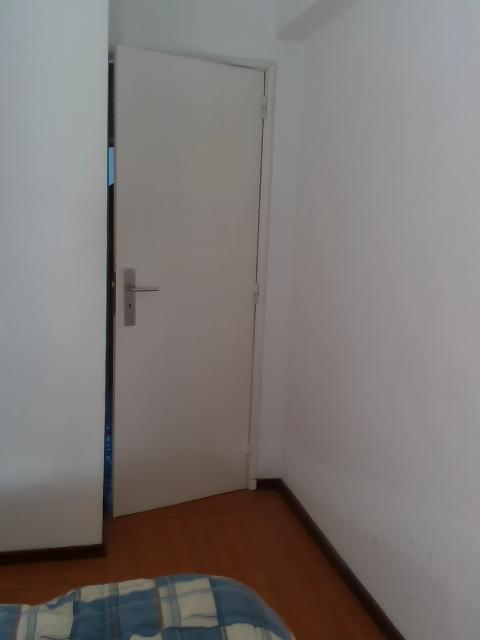door: (111, 45, 266, 519)
